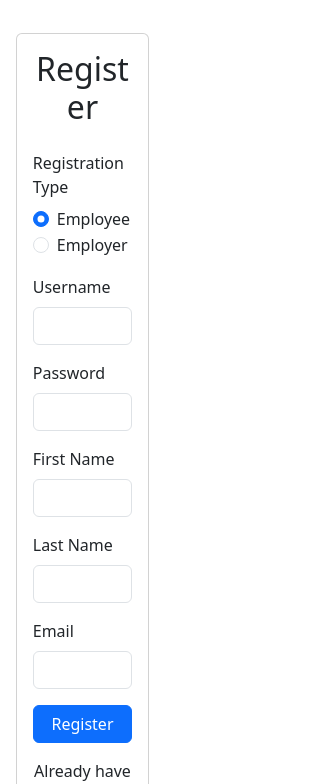
Scenario: Register Component › shows company name field when 'Employer' is selected
The image size is (320, 784).
Expected: the field labelled "Company Name" is not shown
Note: Select Employer account type
Click the radio button labelled "Employer". click: coordinates (41, 245)
box: [33, 237, 49, 253]
(page scrolled)
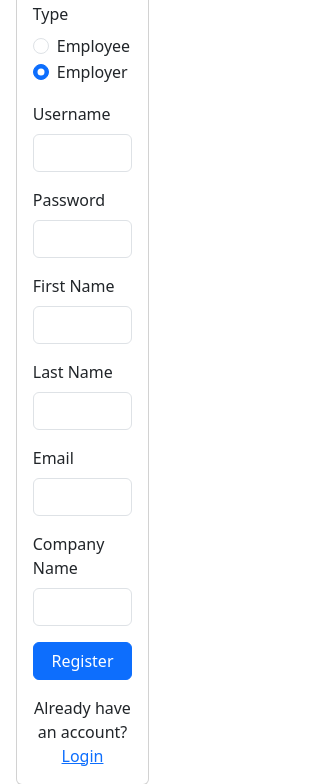
Expected: the field labelled "Company Name" is shown, [33, 588, 132, 626]
